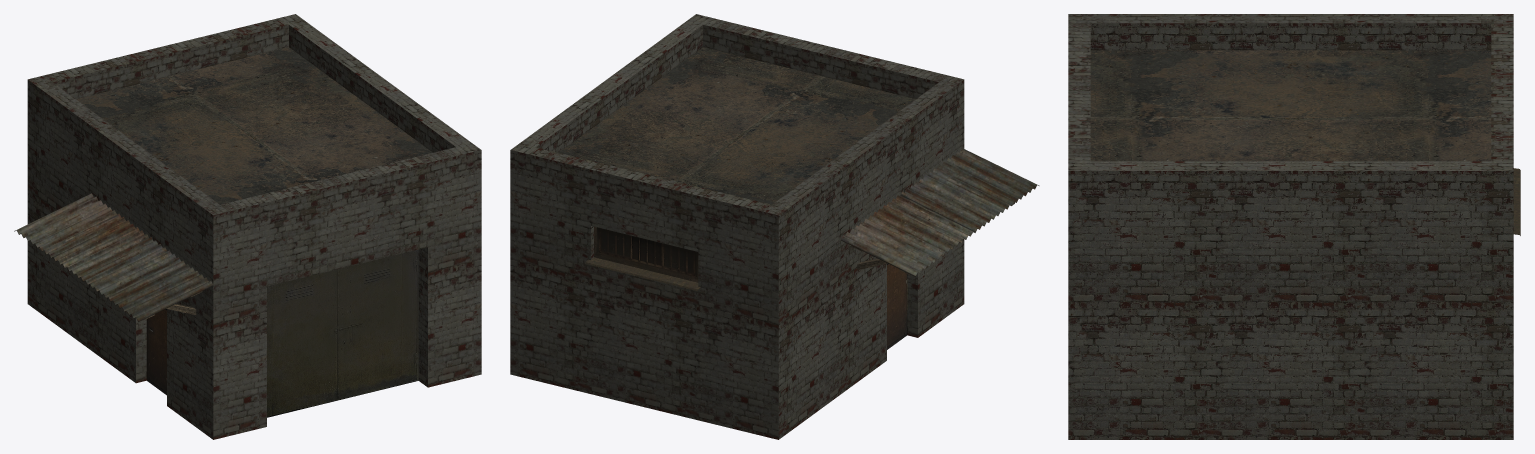
Rendered from garage_hl_1.obj.
3 renders of one model, left to right at view 1: azimuth 30°, elevation 25°; view 2: azimuth 150°, elevation 25°; view 3: azimuth 270°, elevation 25°, orthographic. The views are drawn at different scales.
Parts seen in each view (by area): view 1: garage_hl_1; view 2: garage_hl_1; view 3: garage_hl_1.
Boxes of the visible parts, box(x1,y1,x2,y2) form: garage_hl_1: box(14, 14, 481, 439); garage_hl_1: box(510, 14, 1039, 439); garage_hl_1: box(1068, 14, 1520, 439).
Bounding box in the file's own units: 6.4 × 4 × 6.1.
